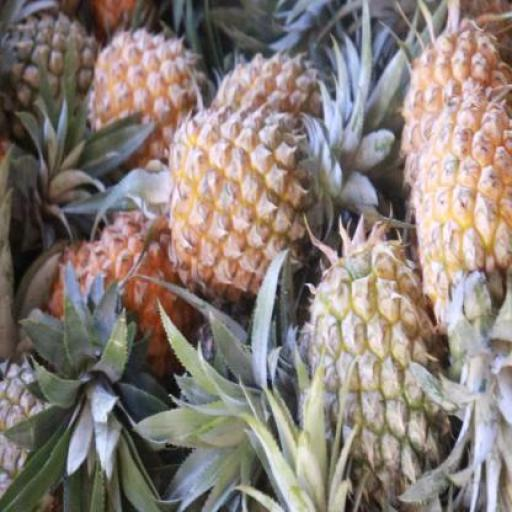------------------------------: (303, 243, 455, 503)
Pineapple - v8 v1: (174, 109, 312, 290), (52, 217, 194, 391), (407, 102, 512, 330), (88, 30, 206, 158)
